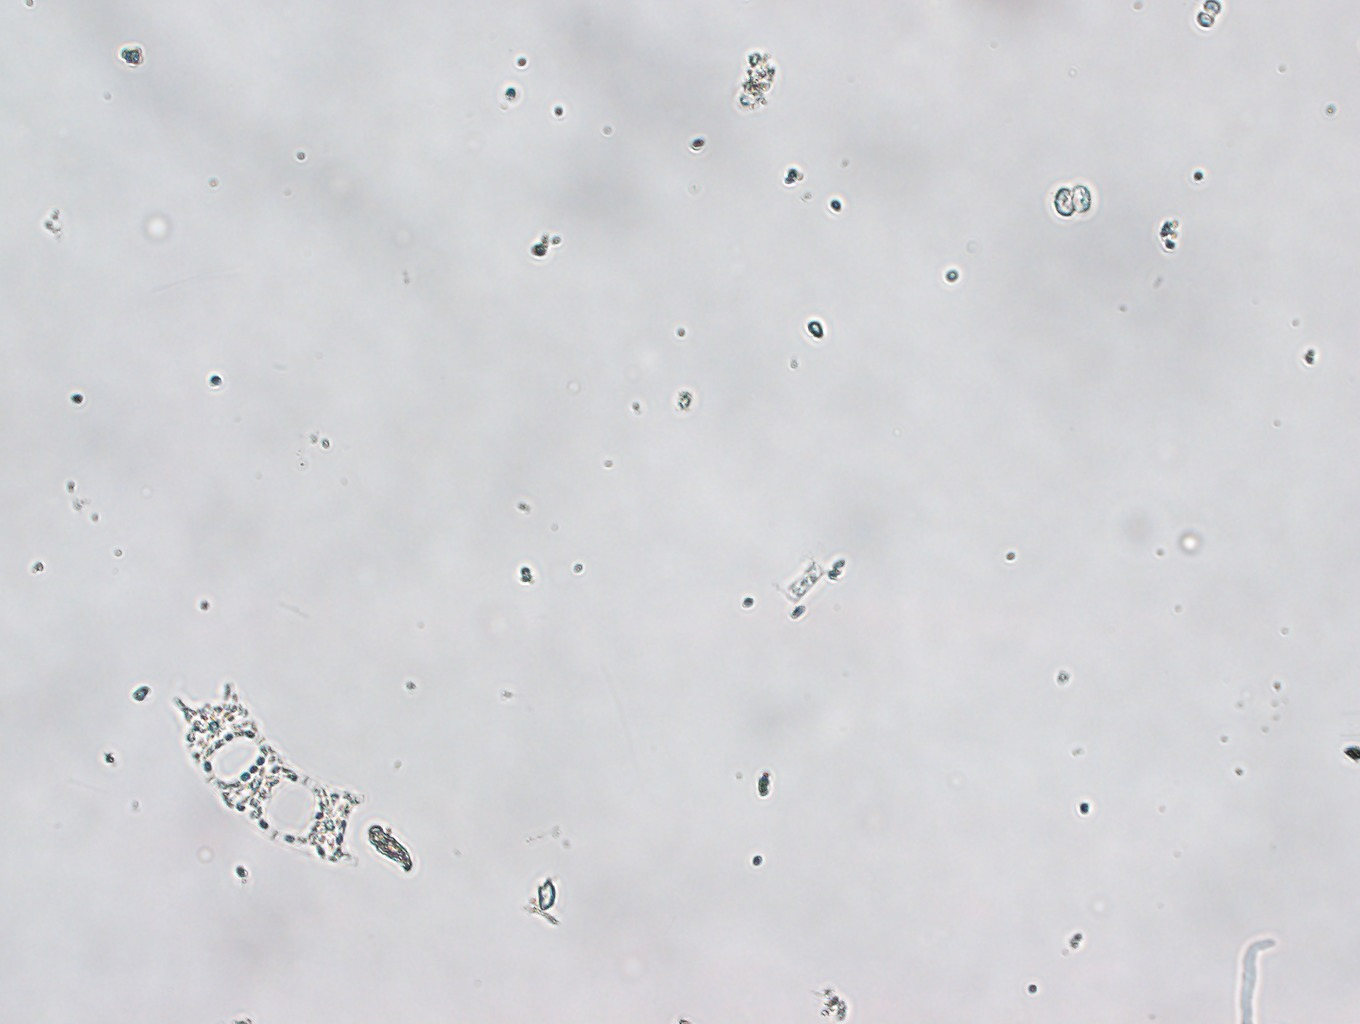eucampia: (158, 675, 366, 872)
